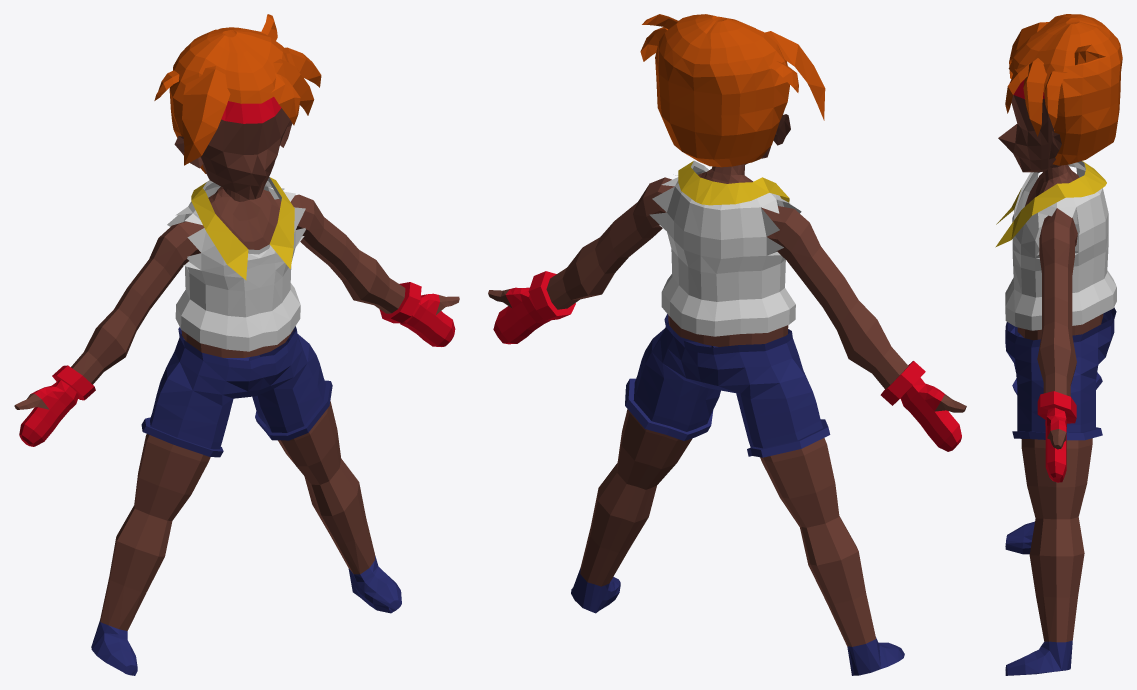
Rendered from hero.dae.
3 views of the same model, side by side, from view 1: azimuth 30°, elevation 25°; view 2: azimuth 150°, elevation 25°; view 3: azimuth 270°, elevation 25° (orthographic). The views are drawn at different scales.
Visible parts, largest first — view 1: Plane.003, Plane.008, Plane, Plane.002, Plane.004, Plane.006, Plane.007, Plane.001; view 2: Plane.003, Plane.008, Plane, Plane.002, Plane.006, Plane.007, Plane.001, Plane.004; view 3: Plane.003, Plane, Plane.006, Plane.008, Plane.002, Plane.004, Plane.007, Plane.001, Plane.005.
Part boxes in pixels (<box>): Plane.003: <box>91,401,401,675</box>; Plane.008: <box>14,194,459,446</box>; Plane: <box>167,177,305,351</box>; Plane.002: <box>141,326,332,457</box>; Plane.004: <box>200,97,289,249</box>; Plane.006: <box>169,27,289,173</box>; Plane.007: <box>154,14,321,165</box>; Plane.001: <box>181,330,293,357</box>; Plane.003: <box>571,409,904,675</box>; Plane.008: <box>488,177,966,451</box>; Plane: <box>649,160,801,336</box>; Plane.002: <box>625,314,830,457</box>; Plane.006: <box>655,14,789,167</box>; Plane.007: <box>640,14,825,120</box>; Plane.001: <box>668,315,788,346</box>; Plane.004: <box>698,112,783,207</box>; Plane.003: <box>1005,438,1092,675</box>; Plane: <box>995,161,1116,330</box>; Plane.006: <box>1008,14,1122,165</box>; Plane.008: <box>1037,172,1077,482</box>; Plane.002: <box>1005,307,1116,440</box>; Plane.004: <box>998,79,1079,206</box>; Plane.007: <box>1005,22,1105,136</box>; Plane.001: <box>1017,314,1103,340</box>; Plane.005: <box>1049,131,1061,159</box>.
Bounding box in the file's own units: 8.05 × 1.99 × 10.21.
